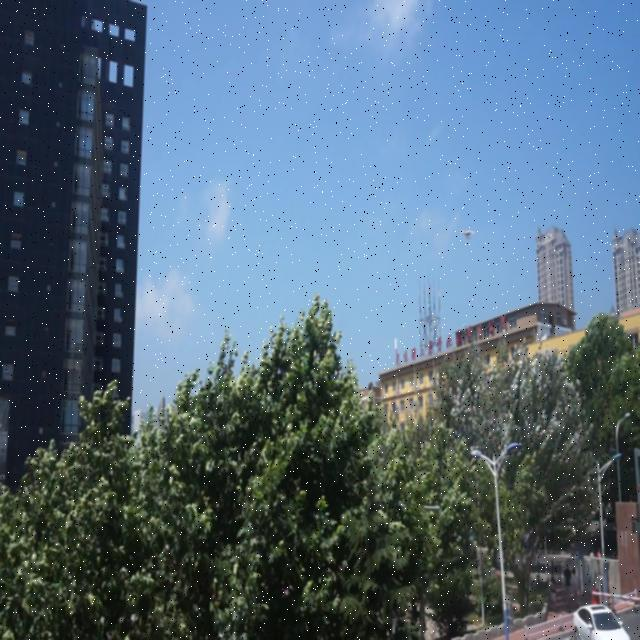UAV: (460, 230, 475, 239)
